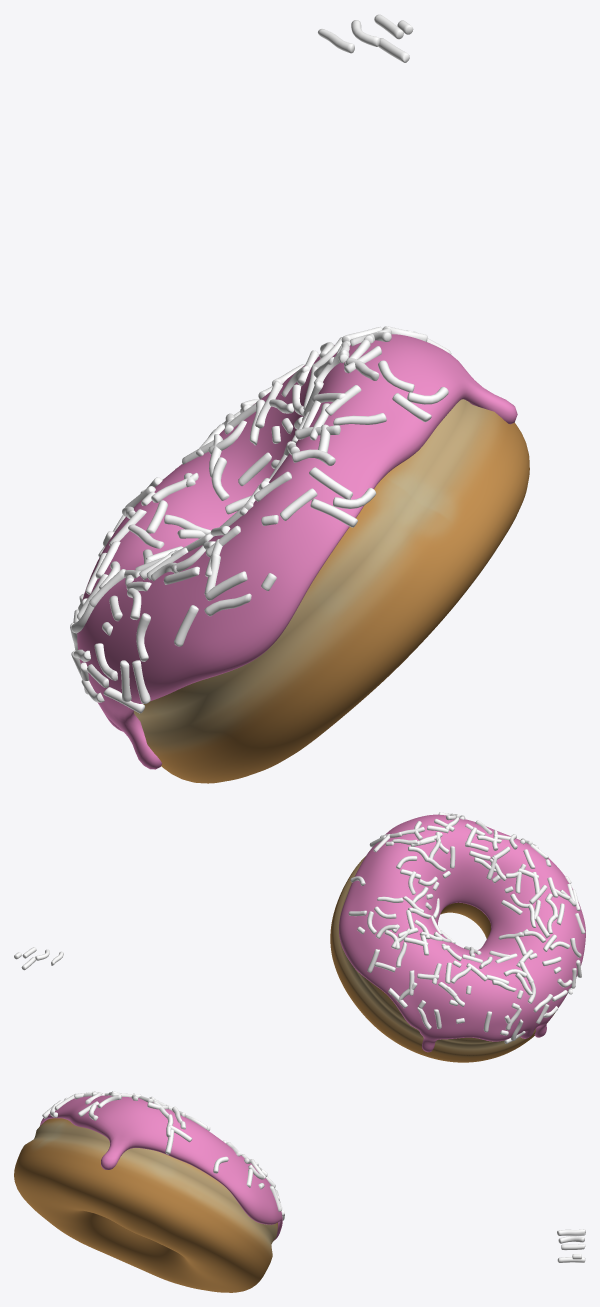
Rendered from donut-big.glb.
3 renders of one model, top to bottom at view 1: azimuth 30°, elevation 25°; view 2: azimuth 150°, elevation 25°; view 3: azimuth 270°, elevation 25°, orthographic. The views are drawn at different scales.
Parts seen in each view (by area): view 1: donut, icing; view 2: icing, donut; view 3: donut, icing.
Boxes of the visible parts, x1,y1,x2,y2 form: donut: (133, 399, 529, 783); icing: (77, 334, 517, 769); icing: (339, 814, 585, 1052); donut: (330, 856, 555, 1062); donut: (14, 1118, 277, 1292); icing: (40, 1095, 282, 1240).
Bounding box in the file's own units: 0.1785 × 0.0984 × 0.2283.
3 materials, 1 textured.
